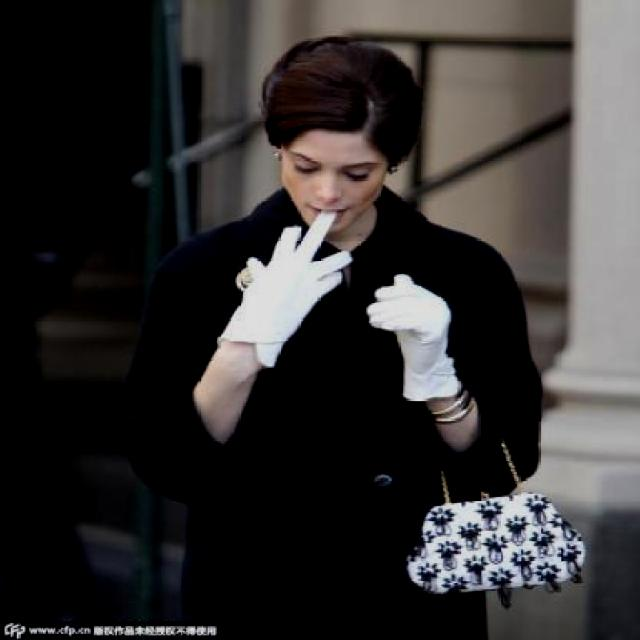face_nomask: (290, 132, 378, 238)
hand_glove: (228, 209, 342, 351), (363, 271, 452, 366)
head_nohelmet: (257, 42, 417, 149)
person: (120, 32, 548, 640)
